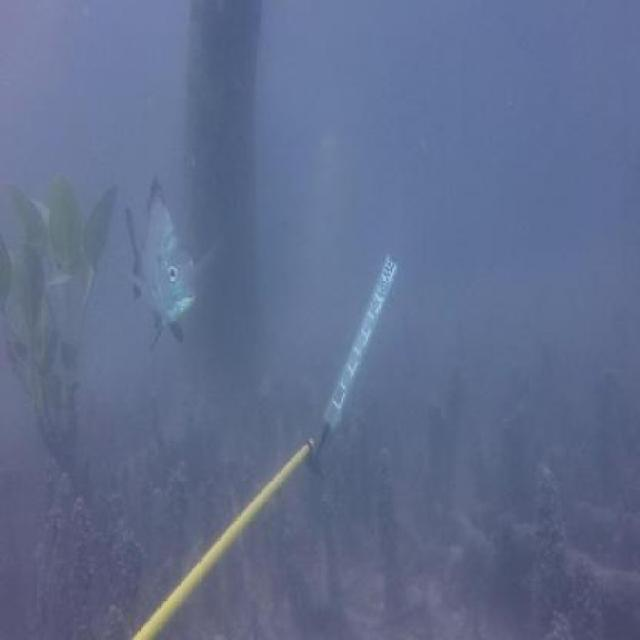acanthopagrus_palmaris: (122, 171, 210, 360)
